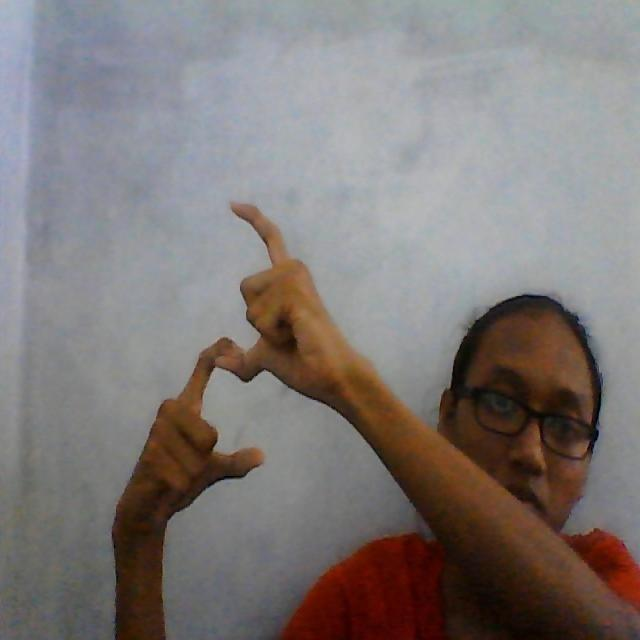S: (151, 186, 323, 507)
